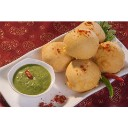bonda: (66, 60, 102, 90), (65, 29, 100, 58), (95, 41, 125, 71), (44, 44, 70, 70)
